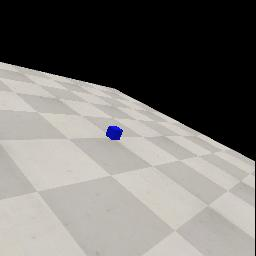box: (106, 126, 123, 140)
